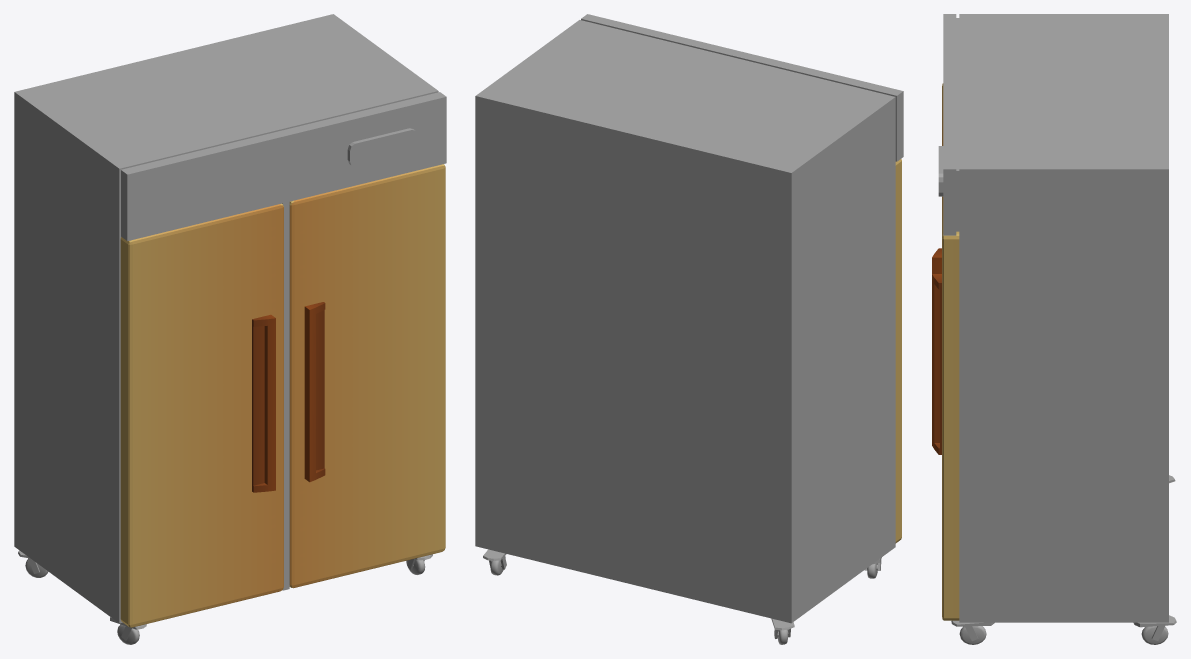
The model's file is Busted Fridge.fbx.
3 renders of one model, left to right at view 1: azimuth 30°, elevation 25°; view 2: azimuth 150°, elevation 25°; view 3: azimuth 270°, elevation 25°, orthographic.
Parts seen in each view (by area): view 1: Busted Fridge, fridge door.001, fridge door; view 2: Busted Fridge, fridge door.001; view 3: Busted Fridge, fridge door.
Part boxes in pixels (<box>): Busted Fridge: <box>14,14,446,644</box>; fridge door.001: <box>120,203,283,627</box>; fridge door: <box>289,164,445,588</box>; Busted Fridge: <box>475,14,903,644</box>; fridge door.001: <box>895,159,901,543</box>; Busted Fridge: <box>938,14,1176,644</box>; fridge door: <box>932,196,959,620</box>.
Size of the model in its own units: 448 by 649 by 298.
